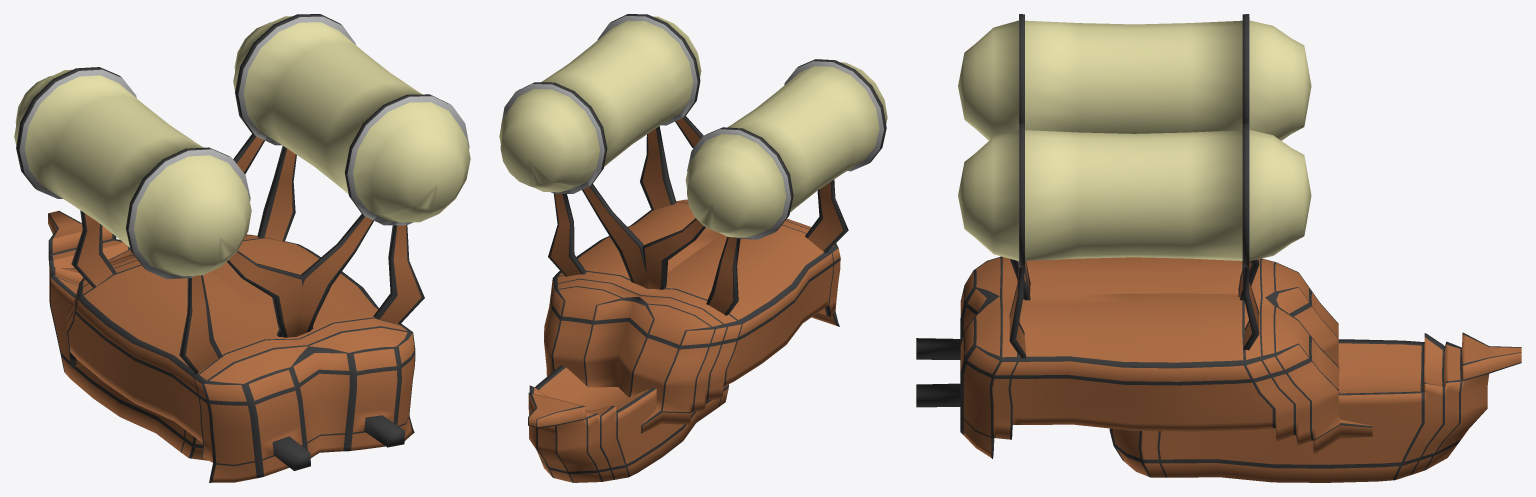
Rendered from dockship.fbx.
3 views of the same model, side by side, from view 1: azimuth 30°, elevation 25°; view 2: azimuth 150°, elevation 25°; view 3: azimuth 270°, elevation 25° (orthographic). The views are drawn at different scales.
Parts seen in each view (by area): view 1: Airship.001; view 2: Airship.001; view 3: Airship.001.
Boxes of the visible parts, left/top/right/bottom form: Airship.001: left=14, top=14, right=470, bottom=482; Airship.001: left=499, top=14, right=887, bottom=482; Airship.001: left=916, top=14, right=1521, bottom=482.
Size of the model in its own units: 3222 by 3463 by 4839.
